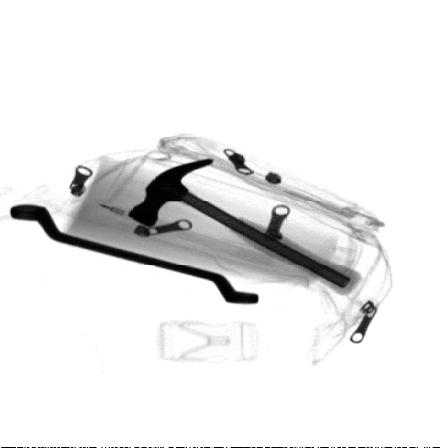Hammer: (122, 156, 365, 298)
Wrench: (8, 206, 261, 306)
